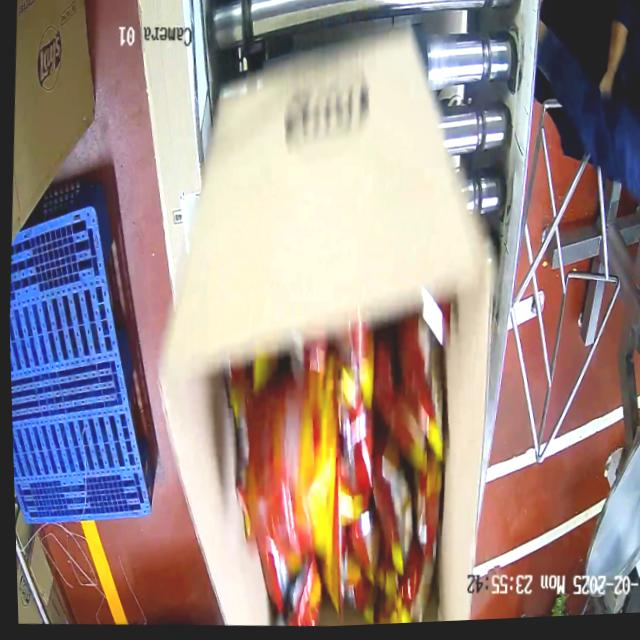MASALA: (217, 344, 460, 631)
